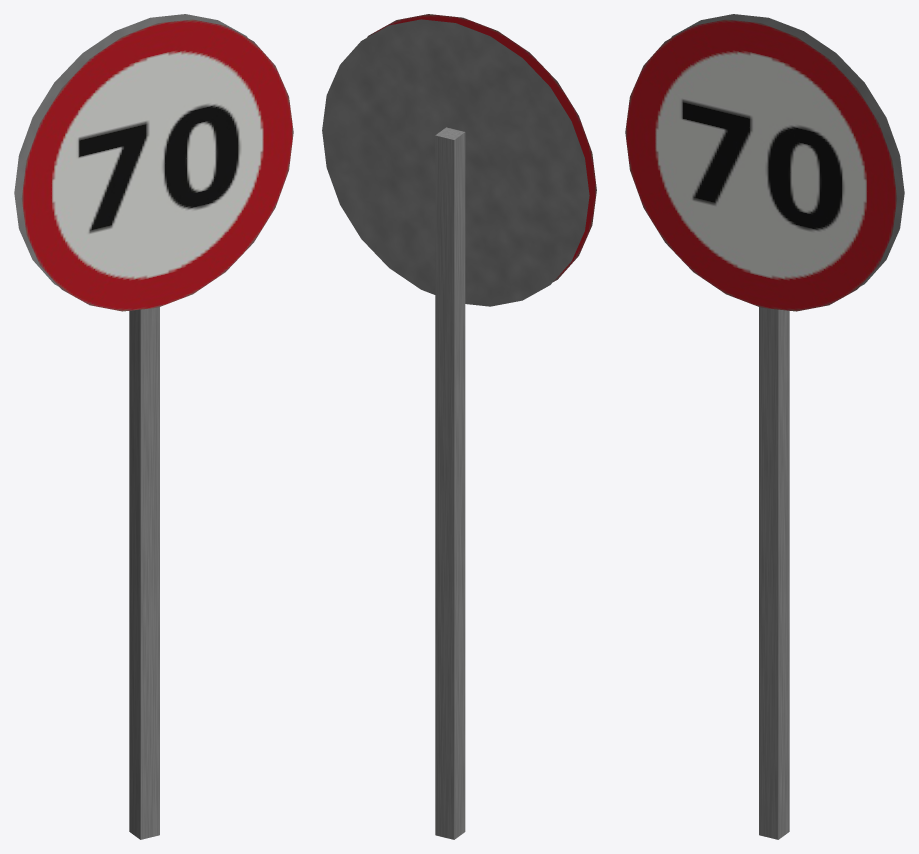
Rendered from SM_sign_limit_70.fbx.
3 views of the same model, side by side, from view 1: azimuth 30°, elevation 25°; view 2: azimuth 150°, elevation 25°; view 3: azimuth 330°, elevation 25° (orthographic).
Parts seen in each view (by area): view 1: SM_sign_limit_70; view 2: SM_sign_limit_70; view 3: SM_sign_limit_70.
Part boxes in pixels (bbox=[...]): SM_sign_limit_70: bbox=[14, 14, 293, 839]; SM_sign_limit_70: bbox=[322, 14, 596, 839]; SM_sign_limit_70: bbox=[625, 14, 904, 839].
Size of the model in its own units: 0.84 by 2.42 by 0.1.
